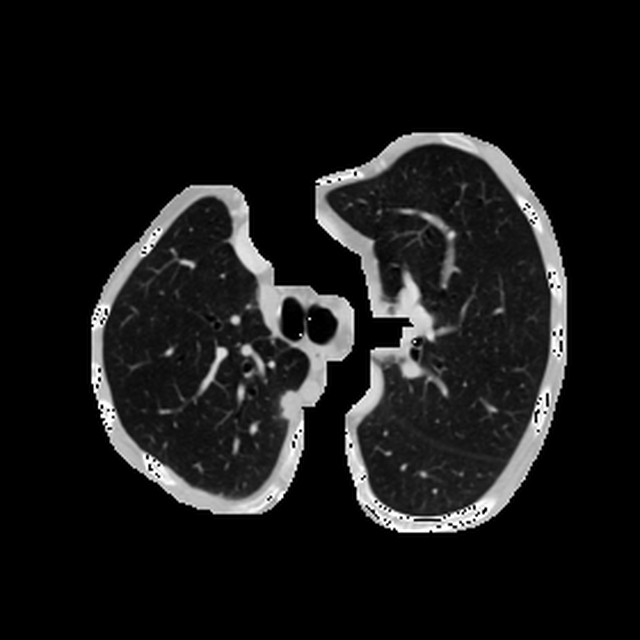PN: (274, 389, 302, 416)
